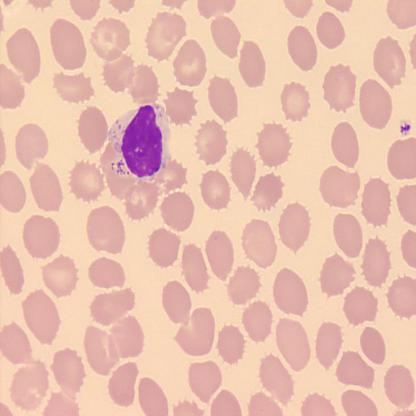Lymphocyte: (108, 101, 172, 181)
